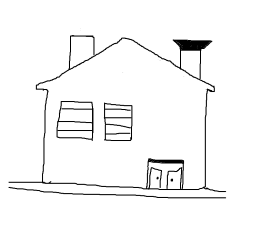chimney: (172, 25, 217, 83), (64, 21, 101, 68)
closed_window: (47, 97, 101, 143), (98, 99, 145, 143)
door: (138, 149, 191, 193)
single_line_roof: (29, 32, 231, 94)
wall: (39, 85, 230, 193)
